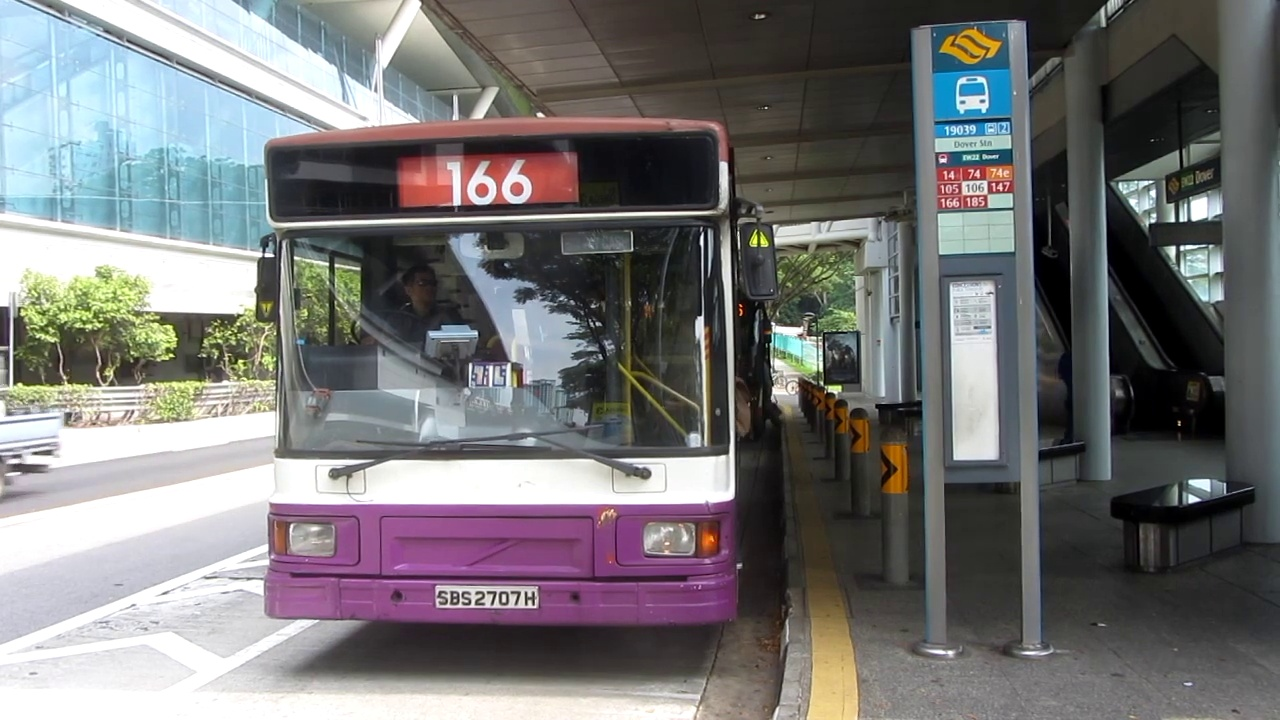bus panel: (395, 150, 584, 209)
